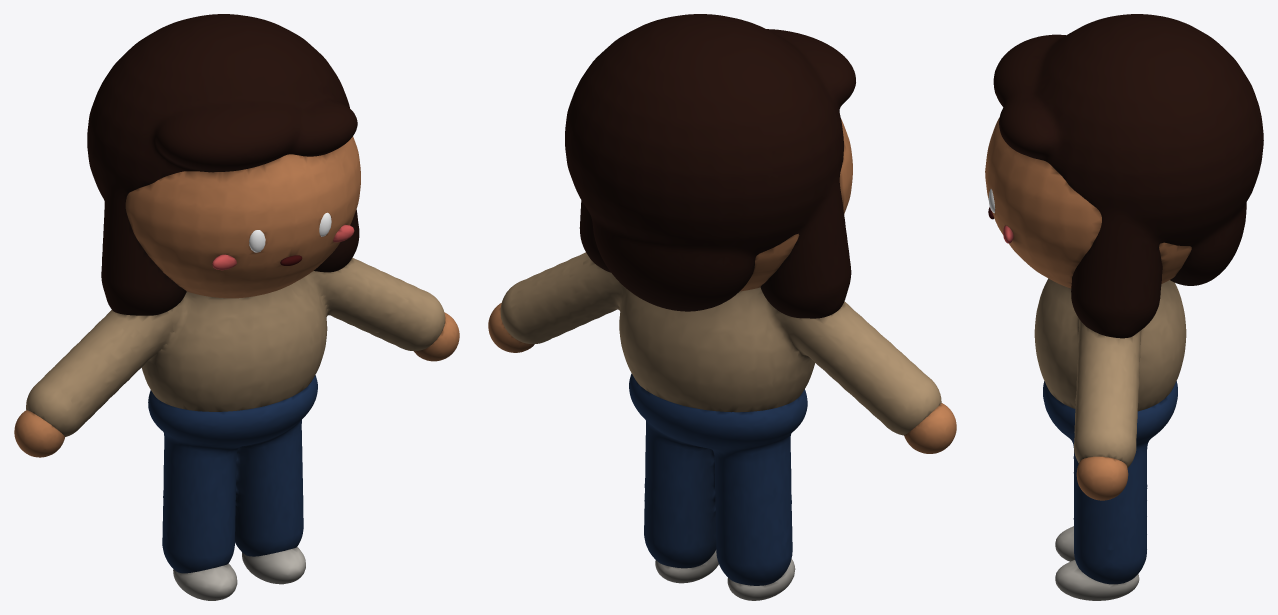
Rendered from girl_apose.fbx.
3 views of the same model, side by side, from view 1: azimuth 30°, elevation 25°; view 2: azimuth 150°, elevation 25°; view 3: azimuth 270°, elevation 25° (orthographic). The views are drawn at different scales.
Visible parts, largest first — view 1: hair, sweater, skin, jeans, socks; view 2: hair, sweater, jeans, skin, socks; view 3: hair, sweater, skin, jeans, socks.
Boxes of the visible parts, x1,y1,x2,y2 form: hair: [87, 14, 359, 315]; sweater: [26, 257, 445, 436]; skin: [14, 136, 459, 457]; jeans: [148, 375, 317, 573]; socks: [173, 547, 305, 600]; hair: [565, 14, 855, 318]; sweater: [500, 252, 941, 435]; jeans: [629, 373, 807, 585]; skin: [488, 119, 956, 453]; socks: [655, 550, 795, 600]; hair: [993, 14, 1263, 338]; sweater: [1034, 278, 1186, 467]; skin: [985, 117, 1191, 500]; jeans: [1043, 381, 1177, 584]; socks: [1055, 526, 1139, 600].
Bounding box in the file's own units: 191 × 227 × 104.
